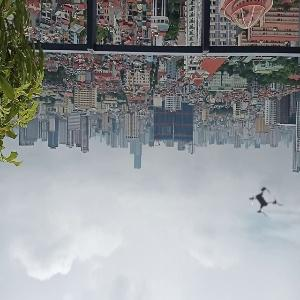drone: (231, 171, 295, 235)
